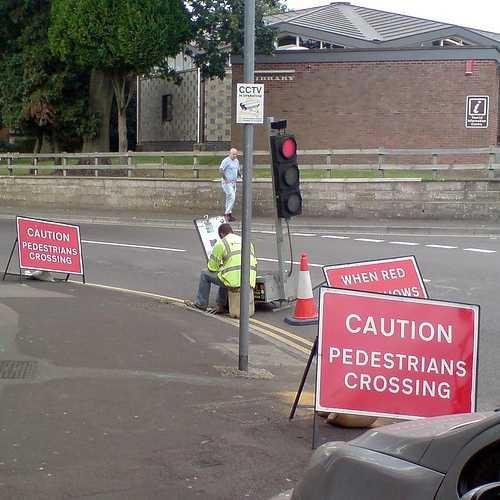red: (267, 134, 311, 224), (273, 134, 301, 162)
